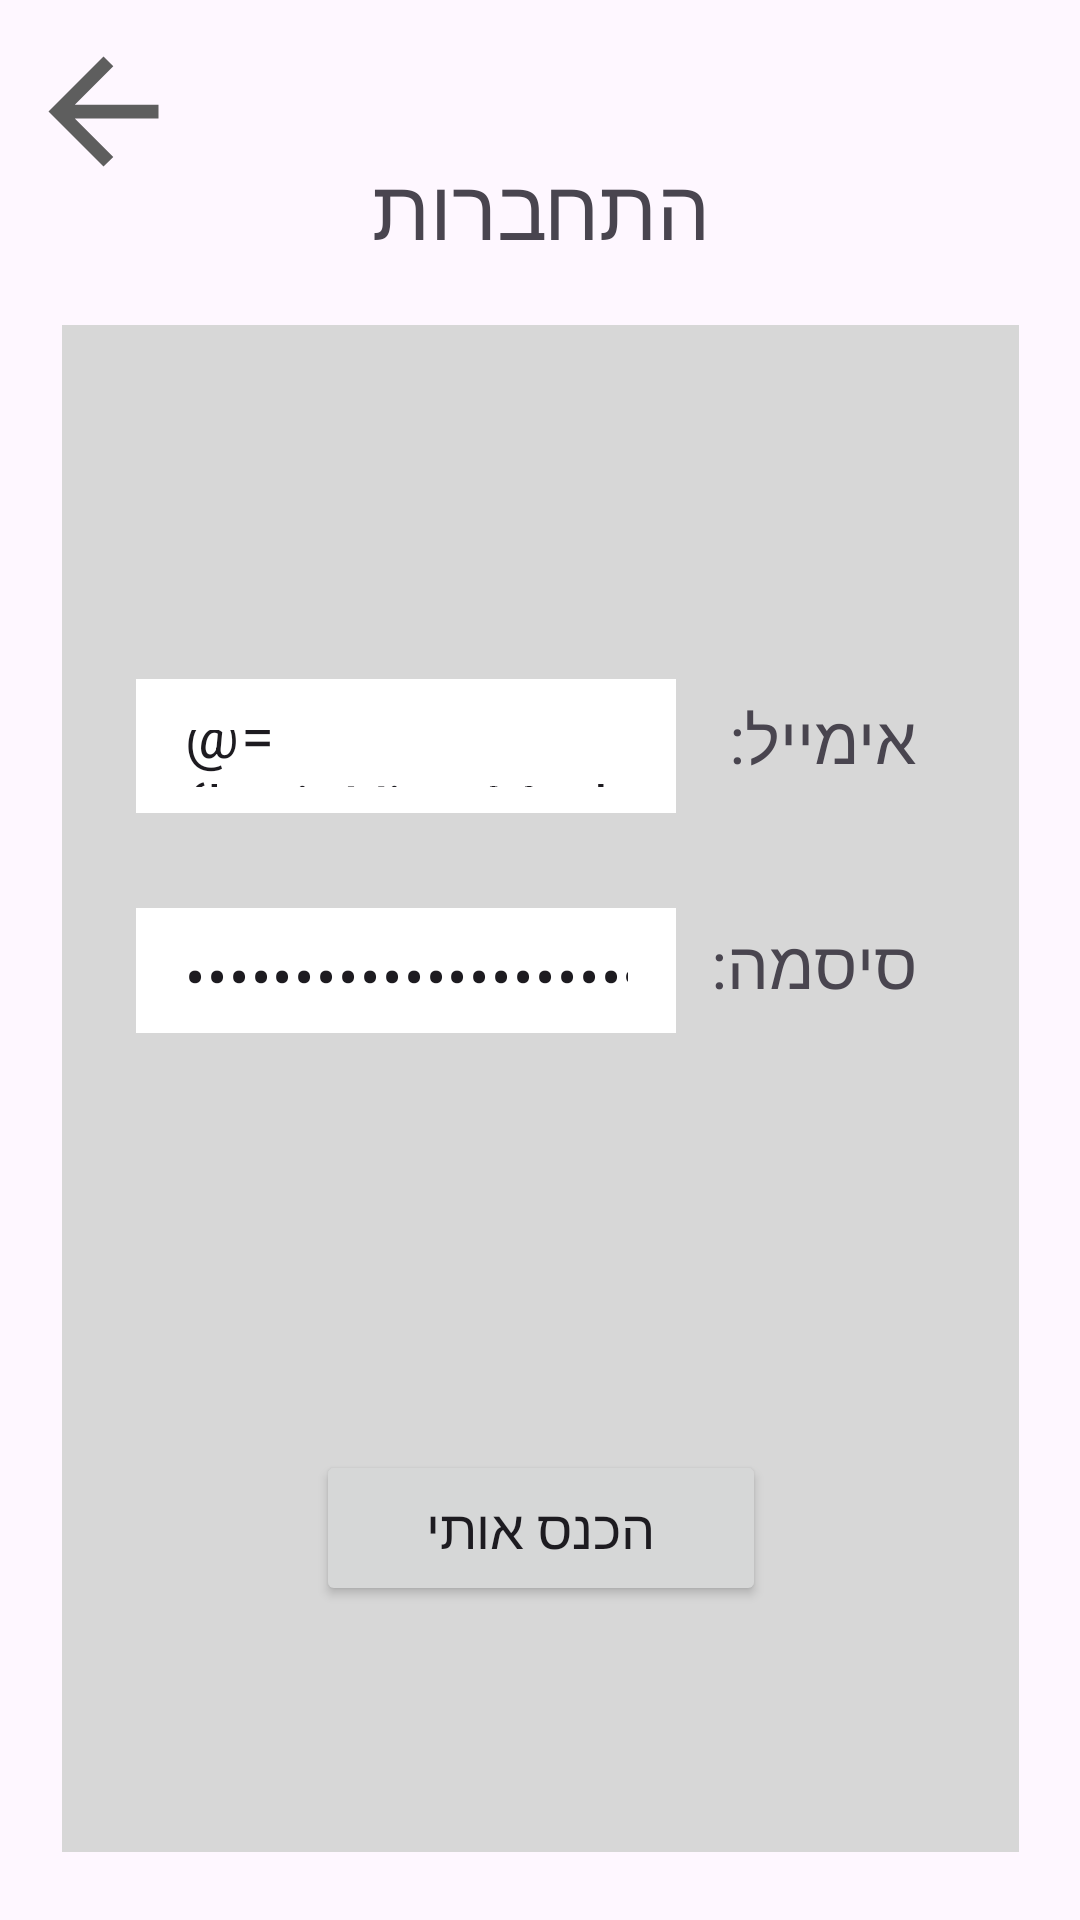

Icon bounding boxes for this 1080×1920 phone screenshot, format (x1, y1, x2, y2):
arrow back: (48, 56, 159, 167)
